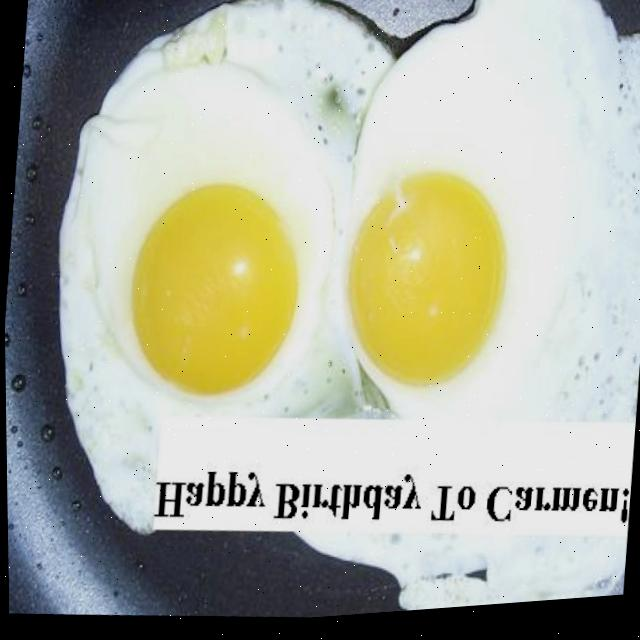鸡蛋料理: (19, 0, 640, 639)
